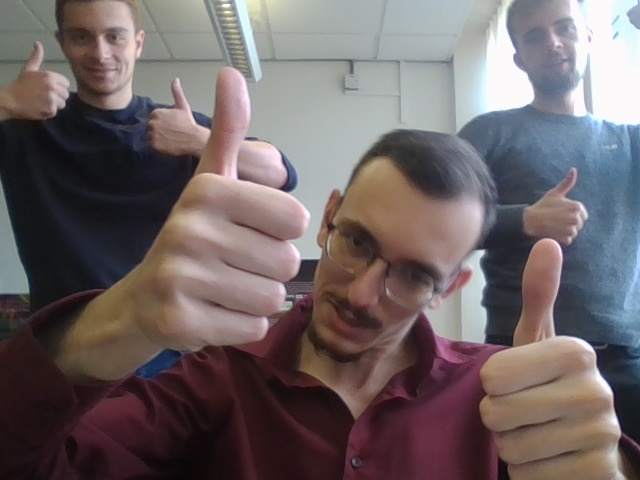thumbup: (134, 65, 311, 351), (476, 239, 627, 480), (145, 78, 202, 157), (530, 167, 587, 246), (16, 42, 68, 121)
